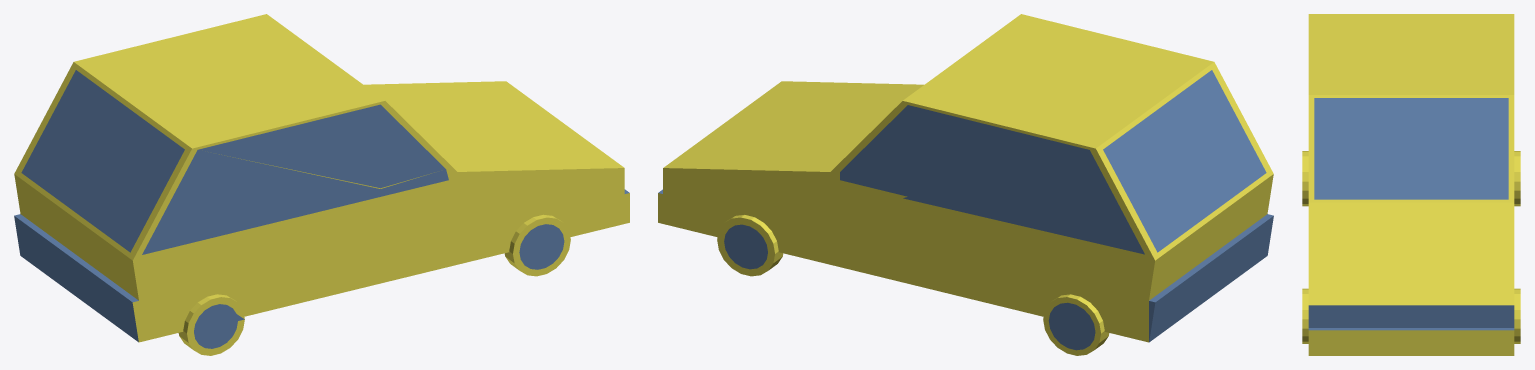
The model's file is car1.glb.
The picture shows the model from 3 angles, left to right: view 1: azimuth 30°, elevation 25°; view 2: azimuth 150°, elevation 25°; view 3: azimuth 270°, elevation 25°; orthographic projection. The views are drawn at different scales.
Parts seen in each view (by area): view 1: Car; view 2: Car; view 3: Car.
Part boxes in pixels (left/top/right/bottom): Car: left=14, top=14, right=629, bottom=355; Car: left=658, top=14, right=1273, bottom=355; Car: left=1302, top=14, right=1520, bottom=355.
Bounding box in the file's own units: 0.9999 × 0.4015 × 0.4386.
